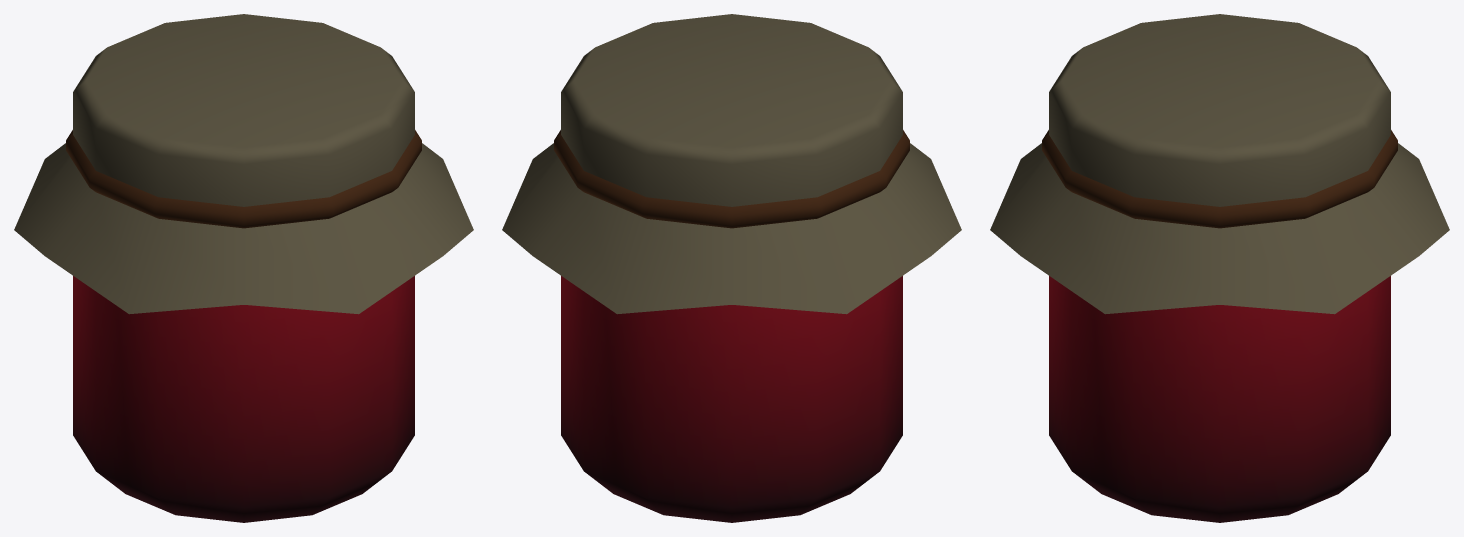
File: Jar1.fbx
The picture shows the model from 3 angles, left to right: view 1: azimuth 30°, elevation 25°; view 2: azimuth 150°, elevation 25°; view 3: azimuth 270°, elevation 25°; orthographic projection.
Visible parts, largest first — view 1: Jar; view 2: Jar; view 3: Jar.
Part boxes in pixels (<box>): Jar: <box>14,14,473,522</box>; Jar: <box>502,14,961,522</box>; Jar: <box>990,14,1449,522</box>.
Size of the model in its own units: 15.38 by 14.18 by 15.38.
